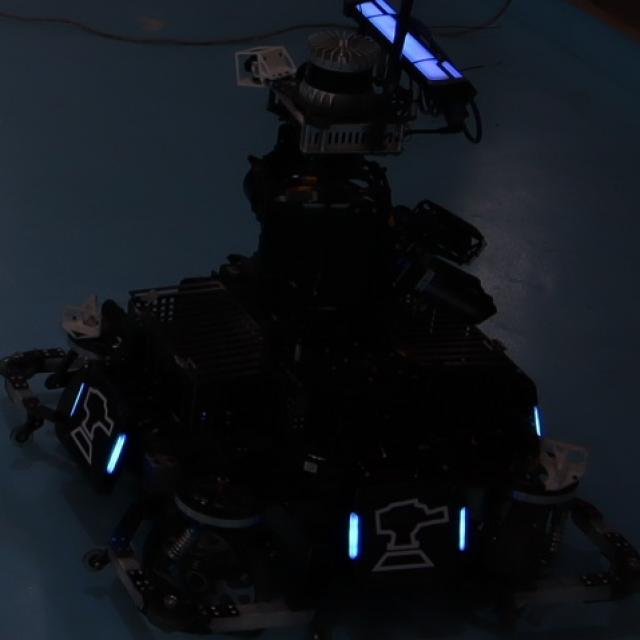Bs: (345, 496, 470, 572), (64, 371, 131, 484)
